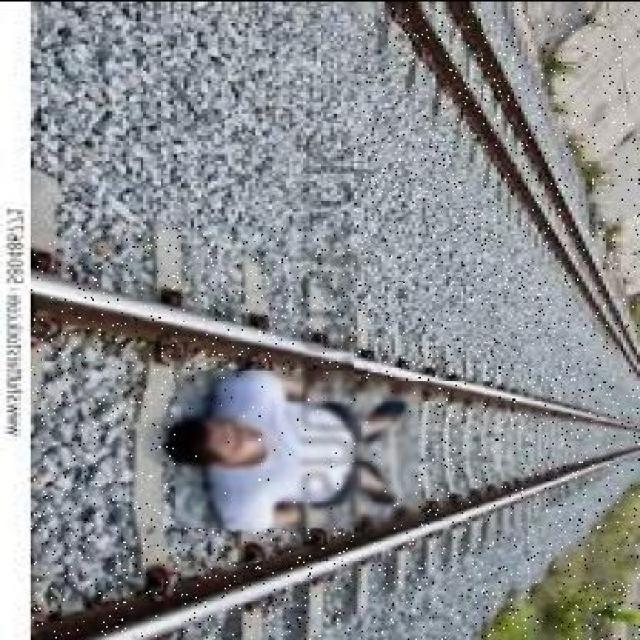danger: (175, 369, 418, 526)
rail: (31, 226, 640, 640), (354, 6, 639, 377)
